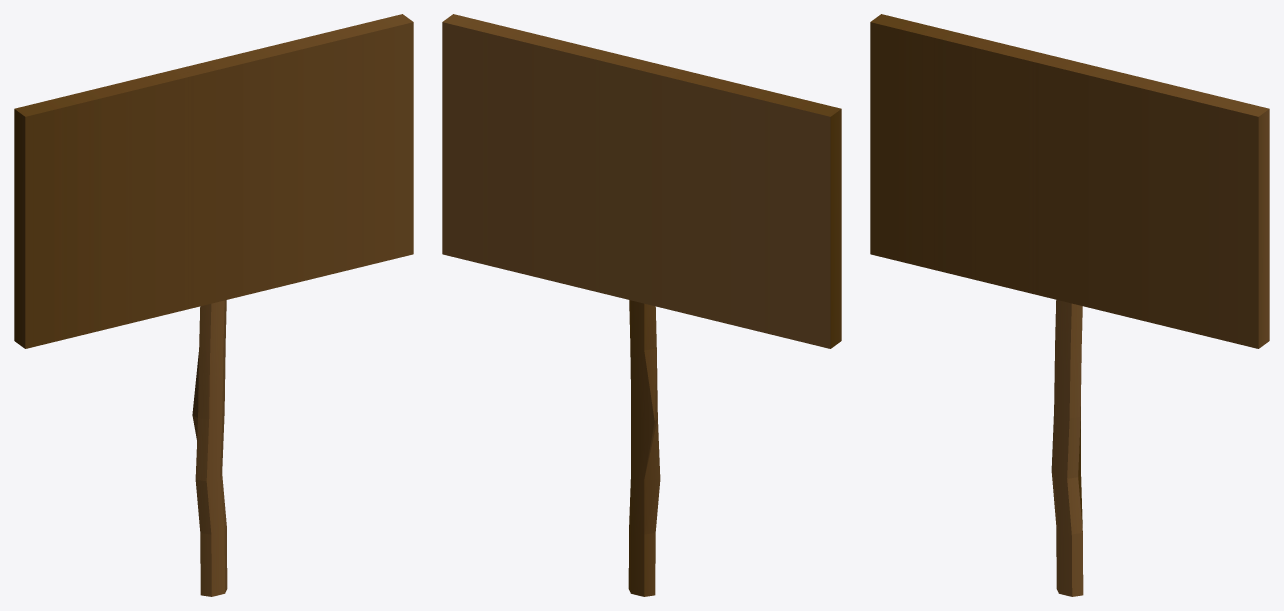
File: sign.fbx
3 views of the same model, side by side, from view 1: azimuth 30°, elevation 25°; view 2: azimuth 150°, elevation 25°; view 3: azimuth 330°, elevation 25° (orthographic).
Visible parts, largest first — view 1: Cube, Cylinder; view 2: Cube, Cylinder; view 3: Cube, Cylinder.
Boxes of the visible parts, x1,y1,x2,y2 form: Cube: [14, 14, 413, 348]; Cylinder: [192, 300, 227, 596]; Cube: [442, 14, 841, 348]; Cylinder: [628, 300, 660, 596]; Cube: [870, 14, 1269, 348]; Cylinder: [1051, 300, 1083, 596].
Size of the model in its own units: 259 by 336 by 12.8.
